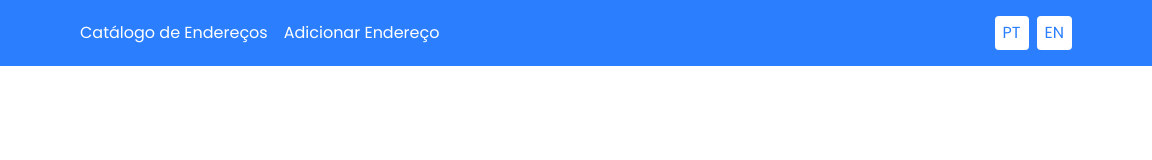
Scenario: NavBar.vue › troca para EN quando clica no botão EN
Click the button "EN". click: (1054, 33)
box: [1036,16,1072,50]
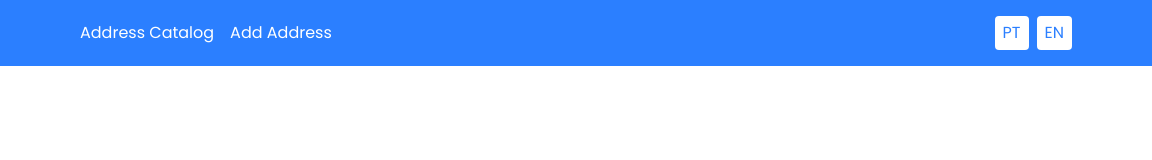
Result: the text "Catalog" is shown at [80,20,214,46]
Result: the text "Add Address" is shown at [230,20,332,46]
